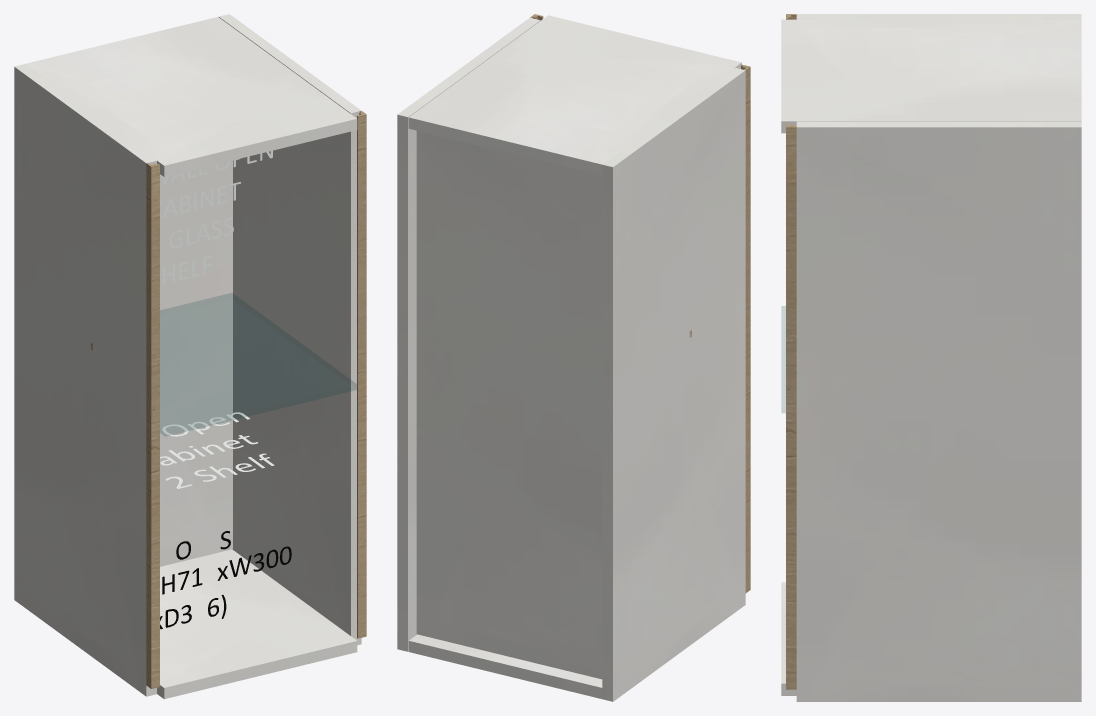
File: WC-OP-NHX-ST-1SG-XXX-XXX-300-725-336-15.glb
The picture shows the model from 3 angles, left to right: view 1: azimuth 30°, elevation 25°; view 2: azimuth 150°, elevation 25°; view 3: azimuth 270°, elevation 25°; orthographic projection. The views are drawn at different scales.
Parts seen in each view (by area): view 1: TP, Object_node_0, Object_node_4, 2D text; view 2: TP, Object_node_4; view 3: TP, Object_node_4.
Part boxes in pixels (left/top/right/bottom): TP: left=14, top=14, right=361, bottom=699; Object_node_0: left=160, top=293, right=356, bottom=435; Object_node_4: left=146, top=111, right=366, bottom=688; 2D text: left=160, top=150, right=291, bottom=629; TP: left=397, top=15, right=745, bottom=701; Object_node_4: left=530, top=14, right=750, bottom=593; TP: left=781, top=14, right=1081, bottom=701; Object_node_4: left=786, top=14, right=796, bottom=689.
Size of the model in its own units: 0.3 by 0.7101 by 0.336.
Materials: 7 (7 with a texture image).
